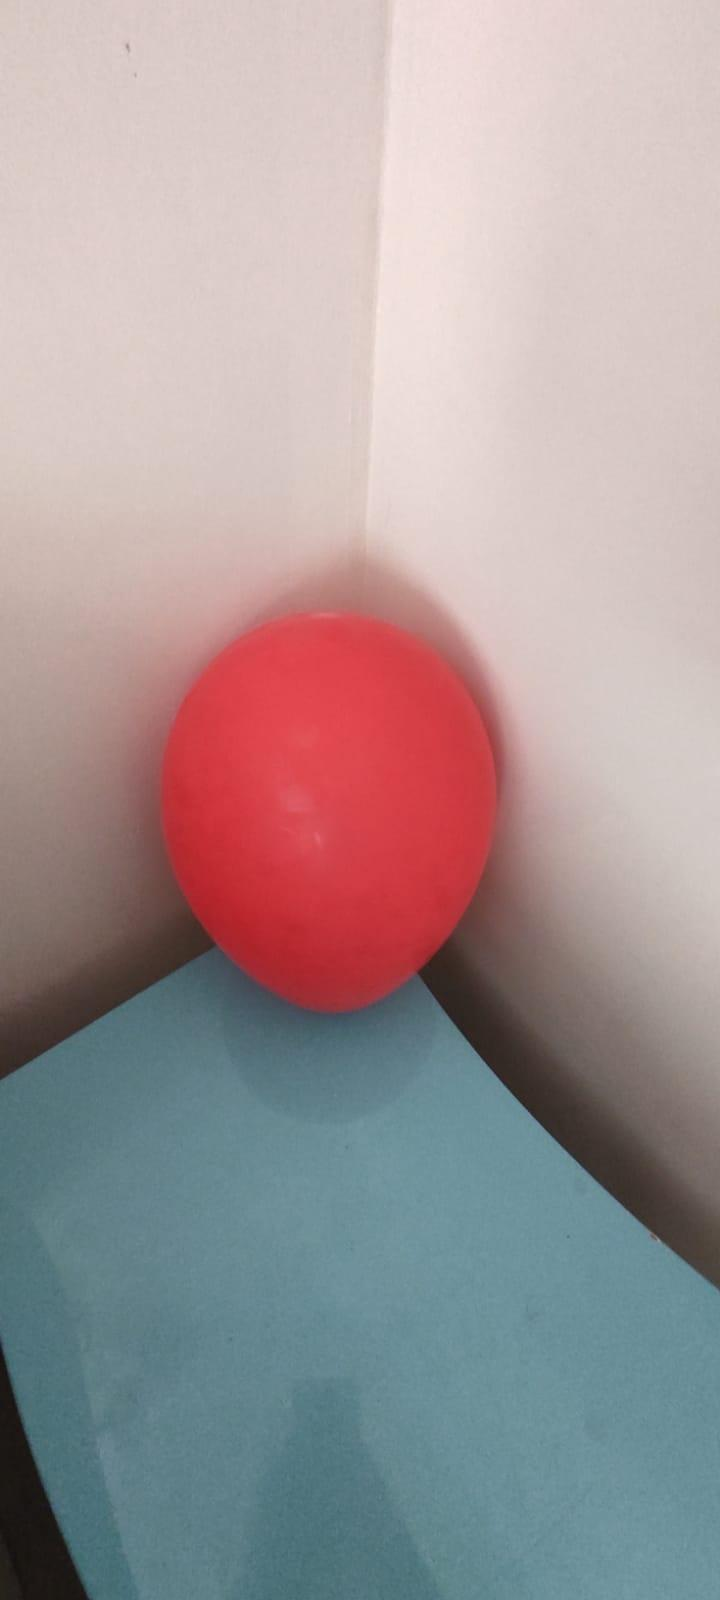red: (157, 604, 503, 1009)
